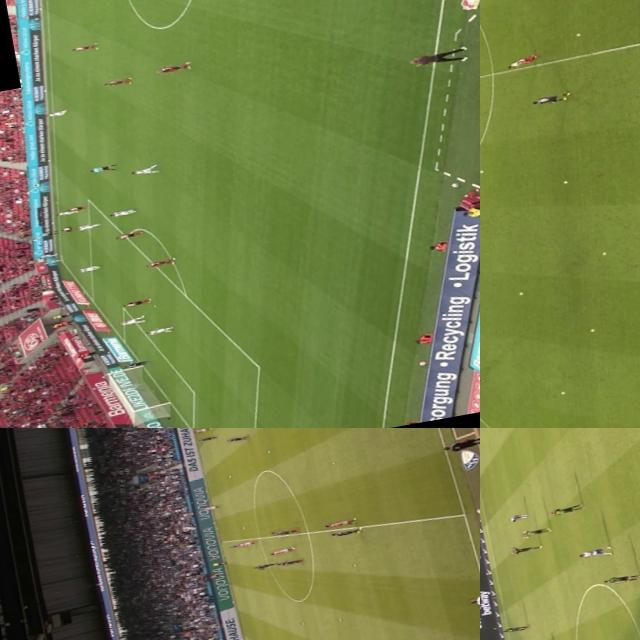ball: (559, 388, 566, 394), (574, 30, 582, 35), (588, 326, 596, 331), (516, 290, 526, 294), (601, 249, 608, 254), (562, 178, 568, 183), (265, 448, 271, 452), (298, 620, 303, 624), (480, 168, 484, 172), (337, 617, 342, 620), (240, 526, 247, 528), (352, 562, 358, 564), (330, 461, 334, 464), (227, 474, 232, 476)
player: (153, 58, 193, 76), (143, 254, 178, 270), (530, 90, 570, 104), (544, 502, 581, 516), (506, 50, 538, 66), (506, 541, 542, 555), (516, 525, 554, 538), (579, 543, 614, 557), (126, 163, 158, 177), (105, 206, 137, 220), (602, 572, 638, 584), (112, 228, 141, 242), (101, 74, 132, 87), (324, 516, 357, 528), (118, 296, 149, 308), (68, 41, 100, 52), (143, 324, 174, 335), (331, 525, 362, 536), (118, 313, 144, 326), (272, 524, 300, 536), (76, 261, 102, 273), (76, 219, 102, 231), (268, 544, 296, 554), (500, 624, 528, 634), (278, 556, 305, 566), (122, 358, 148, 368), (65, 202, 91, 212), (44, 107, 70, 117), (507, 512, 528, 522), (254, 560, 276, 568), (226, 433, 248, 441), (54, 209, 75, 217), (57, 223, 73, 232), (198, 433, 216, 440), (238, 539, 255, 545), (230, 542, 246, 547), (201, 504, 217, 509), (191, 428, 211, 432)
